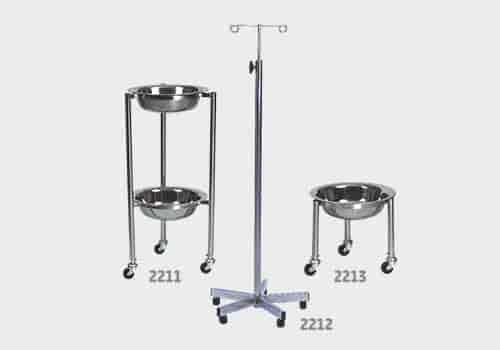Saline Stand: (209, 21, 310, 327)
